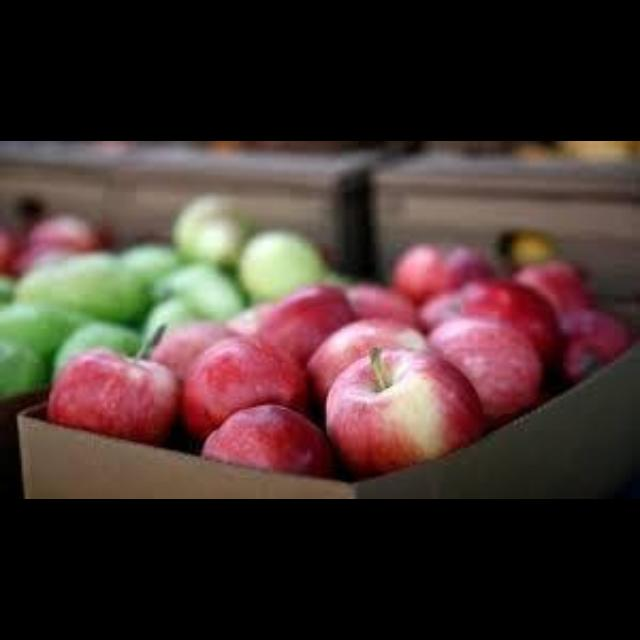apple: (324, 348, 484, 478), (47, 327, 179, 444), (181, 335, 307, 440), (429, 318, 542, 425), (307, 318, 425, 403), (15, 252, 149, 322), (201, 406, 333, 476), (454, 280, 561, 365), (256, 286, 354, 367), (239, 231, 326, 301), (393, 243, 493, 303), (173, 194, 250, 265), (561, 310, 629, 380), (55, 322, 139, 374), (514, 260, 593, 314), (177, 267, 243, 320), (346, 284, 416, 327), (143, 297, 201, 335), (418, 292, 459, 331)
